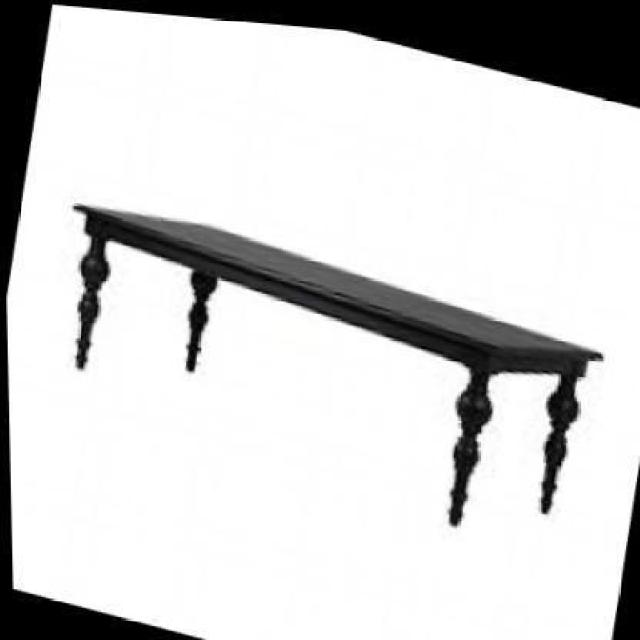tables: (69, 200, 603, 526)
